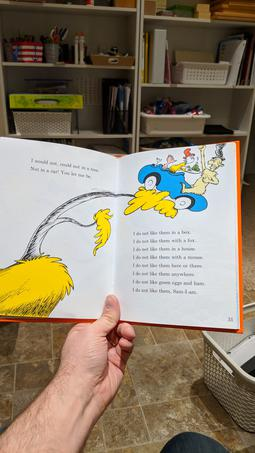text block: (127, 228, 213, 301), (23, 152, 107, 181)
